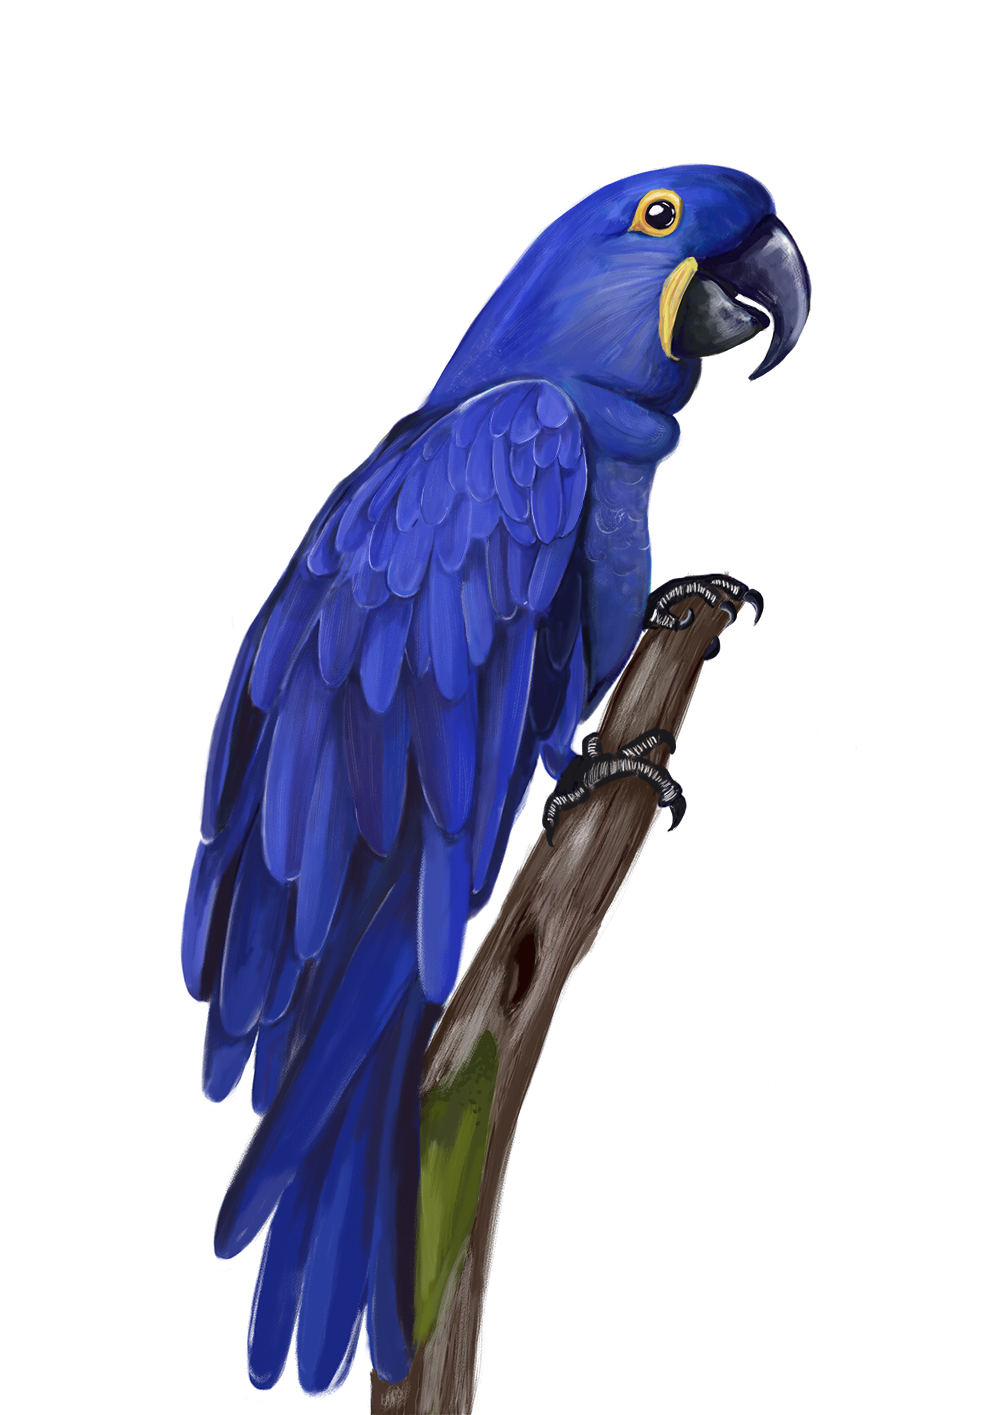guacamaya: (140, 153, 830, 1415)
